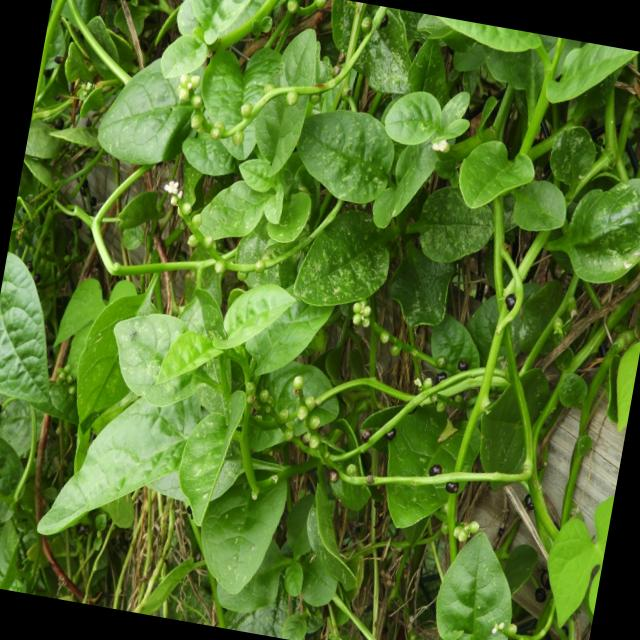Medicinal-Basale: (79, 0, 640, 354), (29, 209, 408, 622), (391, 514, 551, 640)
